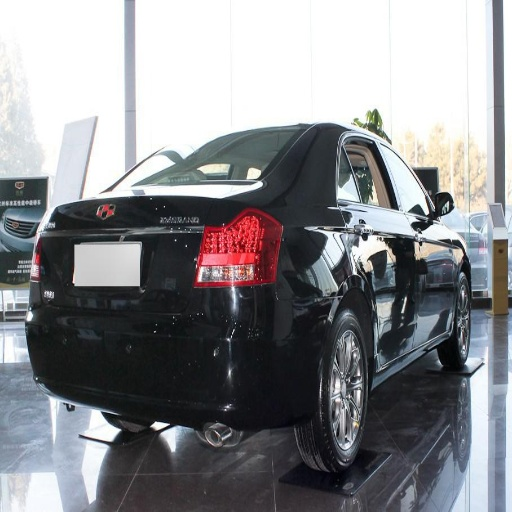back_bumper: (89, 288, 321, 432)
back_right_door: (334, 136, 415, 361)
back_right_light: (193, 210, 281, 289)
front_bumper: (28, 217, 89, 325)
tailgate: (80, 184, 237, 303)
trunk: (57, 241, 193, 364)
